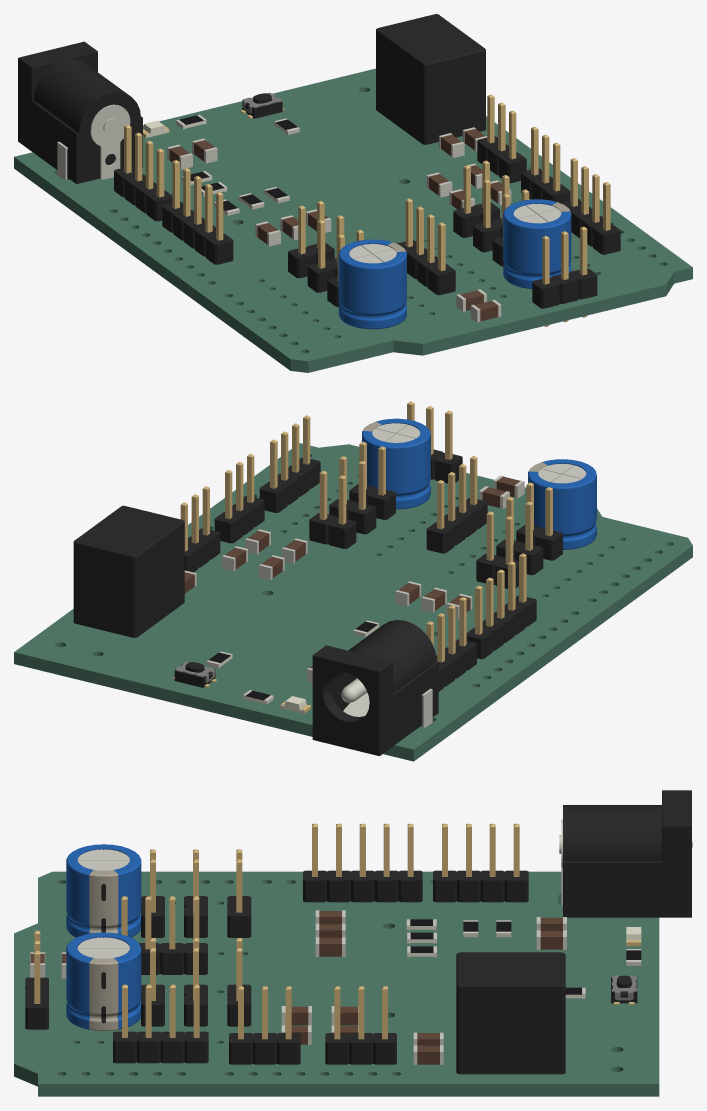
File: pcb.glb
The picture shows the model from 3 angles, top to bottom: view 1: azimuth 30°, elevation 25°; view 2: azimuth 150°, elevation 25°; view 3: azimuth 270°, elevation 25°; orthographic projection. The views are drawn at different scales.
Parts seen in each view (by area): view 1: =>[0:1:1:13], J2, U2, C1, C19, J10, J6, J4, J9, J1, J8, J7 (+7 smaller); view 2: =>[0:1:1:13], J2, U2, C19, C1, J10, J4, J1, J7, J6, JP1, J8 (+7 smaller); view 3: =>[0:1:1:13], J2, U2, C19, C1, J10, J1, J6, J8, J7, J4, J9 (+11 smaller).
Boxes of the visible parts, box(x1,y1,x2,y2) form: =>[0:1:1:13]: box(14, 68, 692, 372); J2: box(18, 41, 142, 183); U2: box(376, 14, 485, 144); C1: box(338, 239, 406, 329); C19: box(503, 199, 571, 288); J10: box(162, 160, 233, 264); J6: box(114, 124, 172, 221); J4: box(397, 198, 455, 295); J9: box(532, 226, 597, 326); J1: box(561, 158, 620, 254); J8: box(477, 94, 526, 183); J7: box(521, 126, 570, 203); =>[0:1:1:13]: box(14, 443, 692, 761); J2: box(312, 620, 438, 755); U2: box(73, 505, 184, 637); C19: box(361, 418, 430, 509); C1: box(528, 459, 596, 549); J10: box(466, 553, 536, 659); J4: box(426, 456, 487, 553); J1: box(259, 415, 320, 512); J7: box(214, 454, 264, 543); J6: box(426, 597, 476, 691); JP1: box(309, 471, 356, 548); J8: box(180, 486, 220, 572); =>[0:1:1:13]: box(14, 871, 659, 1096); J2: box(559, 790, 692, 917); U2: box(456, 952, 565, 1074); C19: box(66, 932, 141, 1030); C1: box(66, 844, 141, 937); J10: box(303, 823, 422, 902); J1: box(113, 984, 208, 1063); J6: box(433, 823, 528, 902); J8: box(325, 986, 396, 1064); J7: box(229, 986, 300, 1064); J4: box(121, 896, 207, 974); J9: box(25, 930, 48, 1029).
Size of the model in its own units: 0.0533 by 0.0147 by 0.0722.
